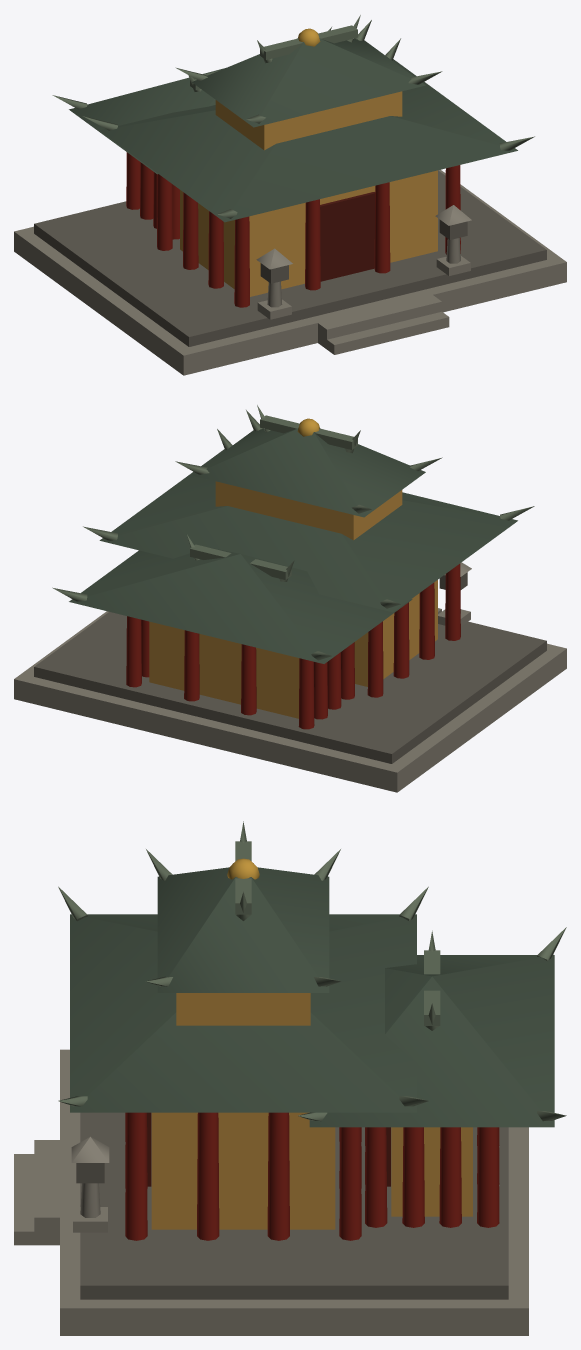
File: ngoc_son_temple.glb
3 renders of one model, top to bottom at view 1: azimuth 30°, elevation 25°; view 2: azimuth 150°, elevation 25°; view 3: azimuth 270°, elevation 25°, orthographic. The views are drawn at different scales.
Parts seen in each view (by area): view 1: NgocSonTemple_mat0; view 2: NgocSonTemple_mat0; view 3: NgocSonTemple_mat0.
Boxes of the visible parts, x1,y1,x2,y2 form: NgocSonTemple_mat0: (14, 15, 566, 375); NgocSonTemple_mat0: (14, 405, 566, 792); NgocSonTemple_mat0: (14, 821, 566, 1335).
Size of the model in its own units: 6 by 3.79 by 5.42.
